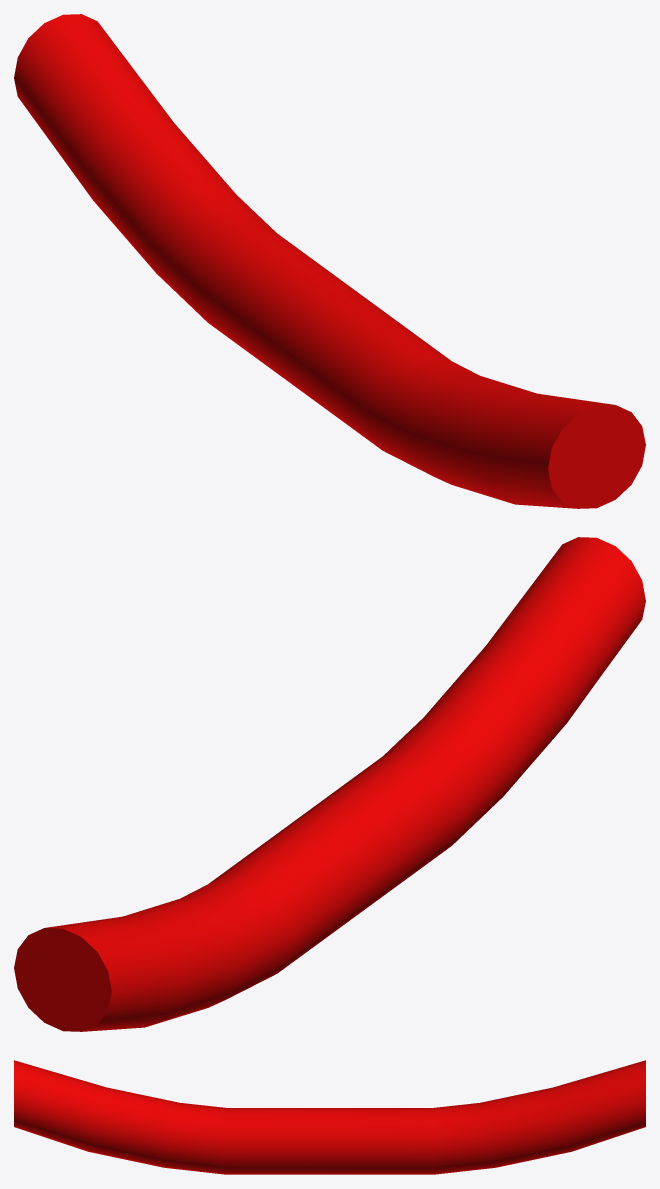
Rendered from G_WireStraight.fbx.
3 renders of one model, top to bottom at view 1: azimuth 30°, elevation 25°; view 2: azimuth 150°, elevation 25°; view 3: azimuth 270°, elevation 25°, orthographic. The views are drawn at different scales.
Parts seen in each view (by area): view 1: Left, Left1; view 2: Left1, Left; view 3: Left, Left1.
Boxes of the visible parts, bbox=[...] form: Left: bbox=[14, 14, 363, 385]; Left1: bbox=[281, 290, 645, 508]; Left1: bbox=[296, 537, 645, 908]; Left: bbox=[14, 813, 378, 1031]; Left: bbox=[330, 1060, 645, 1174]; Left1: bbox=[14, 1060, 329, 1174].
Bounding box in the file's own units: 2.55 × 4.55 × 24.03.
